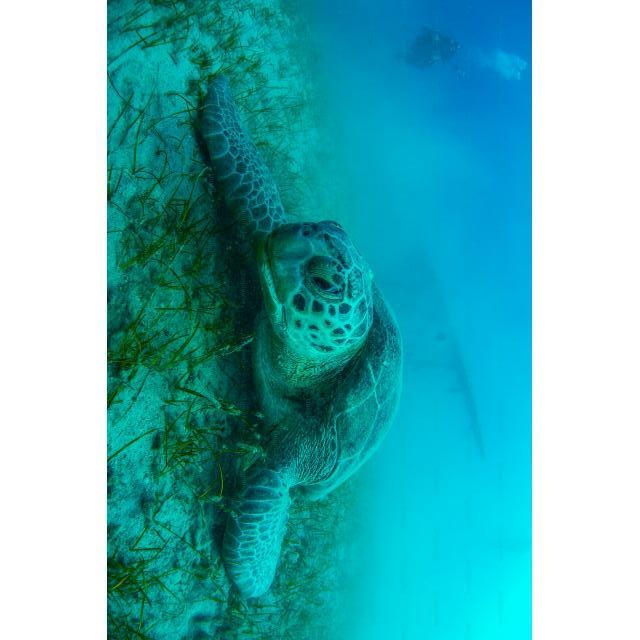turtle: (198, 75, 402, 598)
